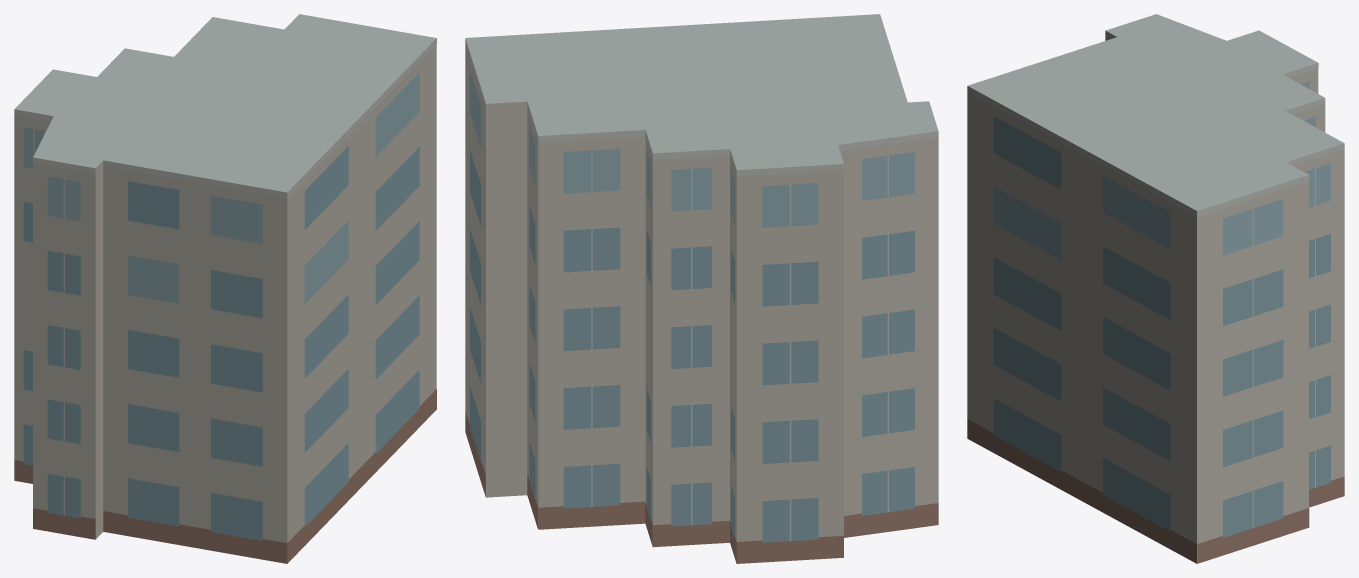
Rendered from survey-upis-32987675.glb.
3 views of the same model, side by side, from view 1: azimuth 30°, elevation 25°; view 2: azimuth 150°, elevation 25°; view 3: azimuth 270°, elevation 25° (orthographic). The views are drawn at different scales.
Parts seen in each view (by area): view 1: survey-upis-32987675.tmp; view 2: survey-upis-32987675.tmp; view 3: survey-upis-32987675.tmp.
Part boxes in pixels (<box>): survey-upis-32987675.tmp: <box>14,14,436,563</box>; survey-upis-32987675.tmp: <box>465,14,938,563</box>; survey-upis-32987675.tmp: <box>967,14,1344,563</box>.
Size of the model in its own units: 18.04 by 15.05 by 14.6.
